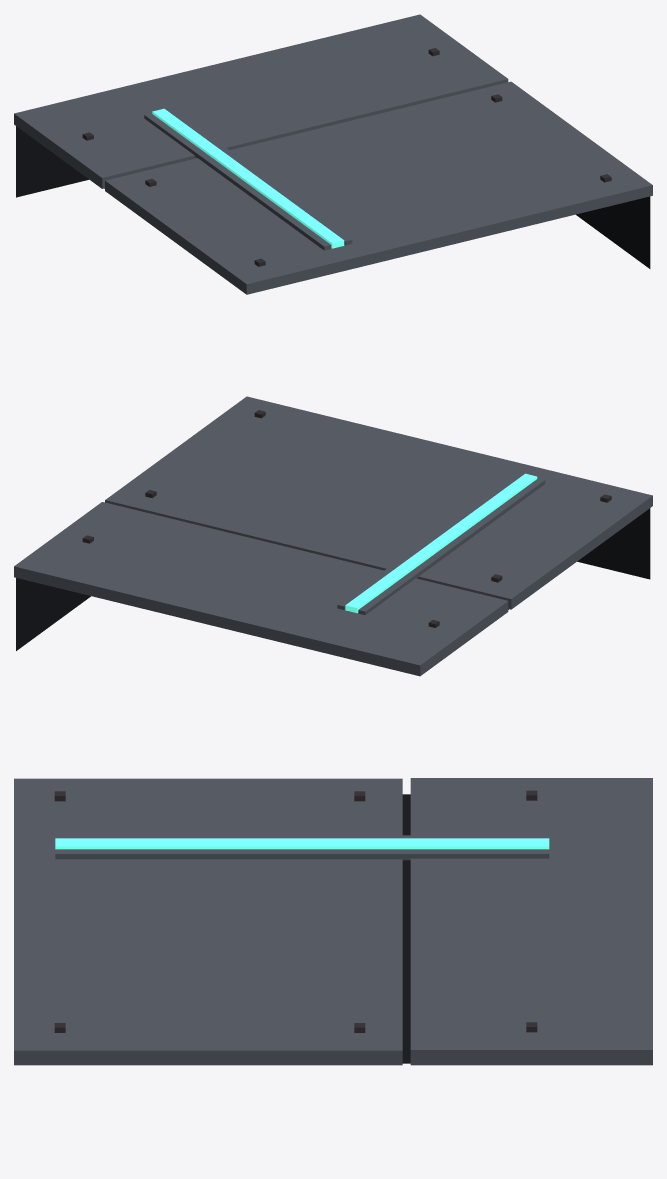
Rendered from SM_Terrain_Dvergr_08_Flat.glb.
The picture shows the model from 3 angles, top to bottom: view 1: azimuth 30°, elevation 25°; view 2: azimuth 150°, elevation 25°; view 3: azimuth 270°, elevation 25°; orthographic projection. The views are drawn at different scales.
Visible parts, largest first — view 1: SM_Terrain_Dvergr_08_Flat_PlateA, SM_Terrain_Dvergr_08_Flat_PlateB, SM_Terrain_Dvergr_08_Flat_Base, SM_Terrain_Dvergr_08_Flat_Conduit, SM_Terrain_Dvergr_08_Flat_Flank0, SM_Terrain_Dvergr_08_Flat_Flank1; view 2: SM_Terrain_Dvergr_08_Flat_PlateA, SM_Terrain_Dvergr_08_Flat_PlateB, SM_Terrain_Dvergr_08_Flat_Base, SM_Terrain_Dvergr_08_Flat_Conduit, SM_Terrain_Dvergr_08_Flat_Flank0, SM_Terrain_Dvergr_08_Flat_Flank1; view 3: SM_Terrain_Dvergr_08_Flat_PlateA, SM_Terrain_Dvergr_08_Flat_PlateB, SM_Terrain_Dvergr_08_Flat_Conduit, SM_Terrain_Dvergr_08_Flat_Flank1, SM_Terrain_Dvergr_08_Flat_Base, SM_Terrain_Dvergr_08_Flat_Flank0.
Part boxes in pixels (x1,y1,x2,y2): SM_Terrain_Dvergr_08_Flat_PlateA: [105, 81, 652, 294]; SM_Terrain_Dvergr_08_Flat_PlateB: [14, 14, 508, 188]; SM_Terrain_Dvergr_08_Flat_Base: [16, 126, 650, 268]; SM_Terrain_Dvergr_08_Flat_Conduit: [152, 108, 344, 248]; SM_Terrain_Dvergr_08_Flat_Flank0: [144, 113, 331, 250]; SM_Terrain_Dvergr_08_Flat_Flank1: [166, 108, 352, 245]; SM_Terrain_Dvergr_08_Flat_PlateA: [105, 396, 652, 609]; SM_Terrain_Dvergr_08_Flat_PlateB: [14, 502, 508, 676]; SM_Terrain_Dvergr_08_Flat_Base: [16, 508, 650, 650]; SM_Terrain_Dvergr_08_Flat_Conduit: [345, 473, 537, 613]; SM_Terrain_Dvergr_08_Flat_Flank0: [358, 478, 545, 614]; SM_Terrain_Dvergr_08_Flat_Flank1: [337, 473, 523, 609]; SM_Terrain_Dvergr_08_Flat_PlateA: [14, 778, 402, 1065]; SM_Terrain_Dvergr_08_Flat_PlateB: [410, 778, 652, 1065]; SM_Terrain_Dvergr_08_Flat_Conduit: [55, 838, 549, 849]; SM_Terrain_Dvergr_08_Flat_Flank1: [55, 849, 549, 860]; SM_Terrain_Dvergr_08_Flat_Base: [402, 794, 410, 1063]; SM_Terrain_Dvergr_08_Flat_Flank0: [55, 835, 549, 838].
Bounding box in the file's own units: 2.02 × 0.426 × 2.01.
